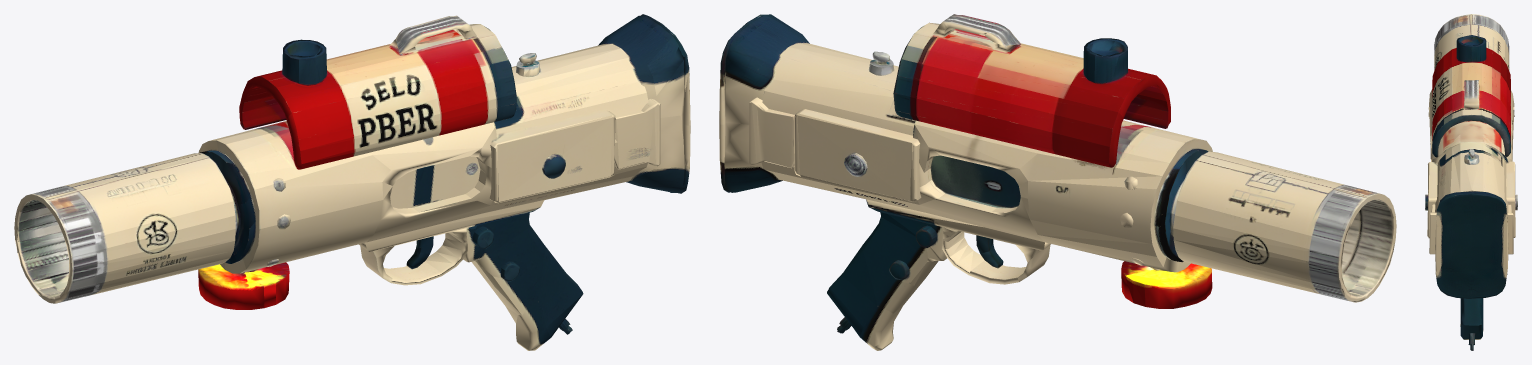
Rendered from tidebreak-launcher.glb.
3 views of the same model, side by side, from view 1: azimuth 30°, elevation 25°; view 2: azimuth 150°, elevation 25°; view 3: azimuth 270°, elevation 25° (orthographic). The views are drawn at different scales.
Bounding box in the file's own units: 1 × 0.5449 × 0.2002.
Materials: 1 (1 with a texture image).
